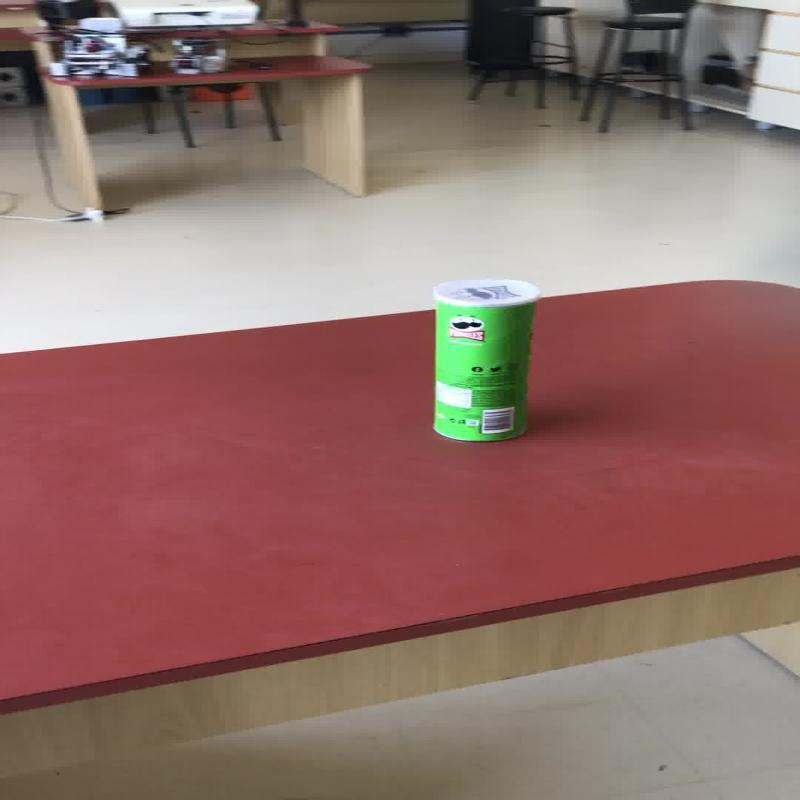pringles: (428, 278, 538, 442)
